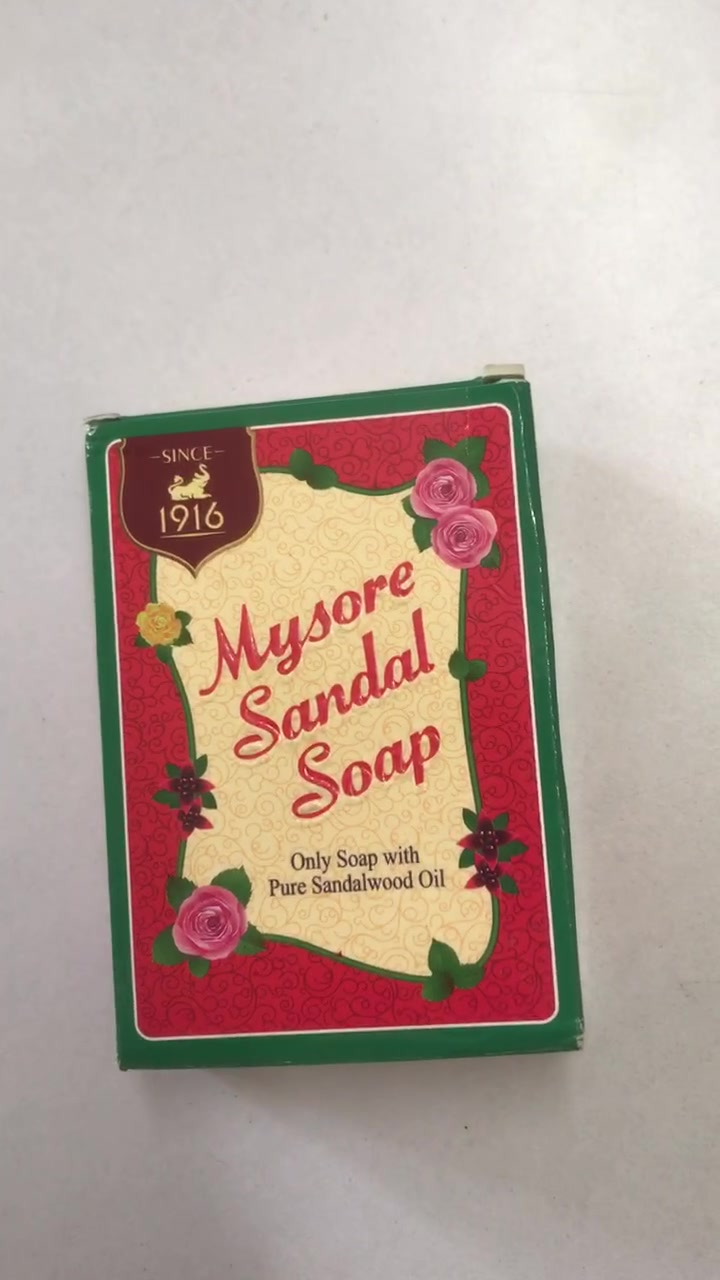mysore sandal soap: (88, 375, 587, 1077)
